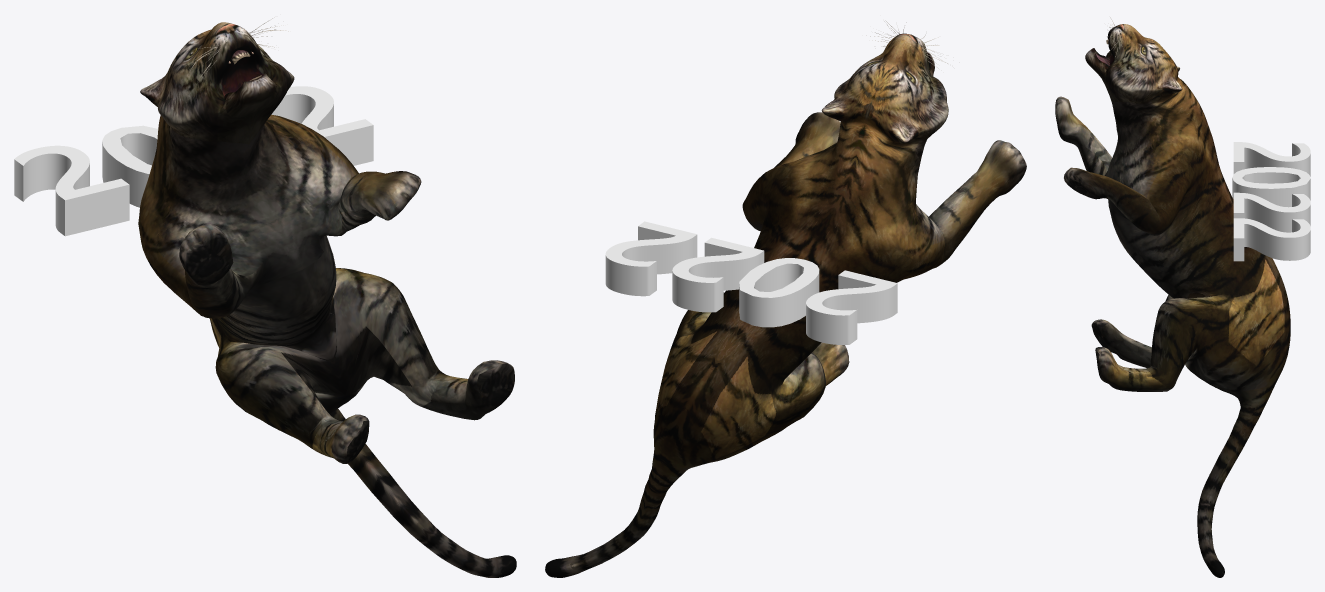
Rendered from asset7.glb.
3 renders of one model, left to right at view 1: azimuth 30°, elevation 25°; view 2: azimuth 150°, elevation 25°; view 3: azimuth 270°, elevation 25°, orthographic. The views are drawn at different scales.
Visible parts, largest first — view 1: D1201A12, mesh_id38.001; view 2: D1201A12, mesh_id38.001; view 3: D1201A12, mesh_id38.001.
Boxes of the visible parts, x1,y1,x2,y2 form: D1201A12: [138, 17, 516, 577]; mesh_id38.001: [14, 86, 373, 236]; D1201A12: [545, 20, 1026, 577]; mesh_id38.001: [605, 221, 897, 344]; D1201A12: [1055, 17, 1290, 577]; mesh_id38.001: [1232, 142, 1310, 261].
Size of the model in its own units: 200 by 291 by 151.
Materials: 3 (1 with a texture image).
